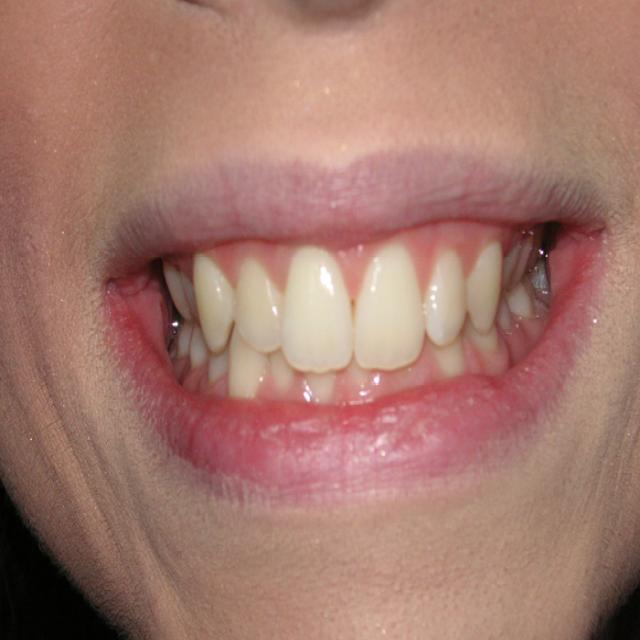tooth: (279, 243, 353, 367), (358, 251, 430, 362), (228, 248, 279, 352), (191, 250, 237, 351), (426, 248, 466, 348), (154, 253, 198, 326), (469, 247, 500, 326), (496, 291, 542, 339), (500, 235, 535, 295), (469, 324, 509, 372), (231, 344, 265, 396), (171, 324, 205, 376), (300, 366, 335, 407), (346, 362, 385, 393), (266, 357, 296, 396), (528, 263, 555, 301), (203, 351, 229, 385), (438, 344, 472, 368)
